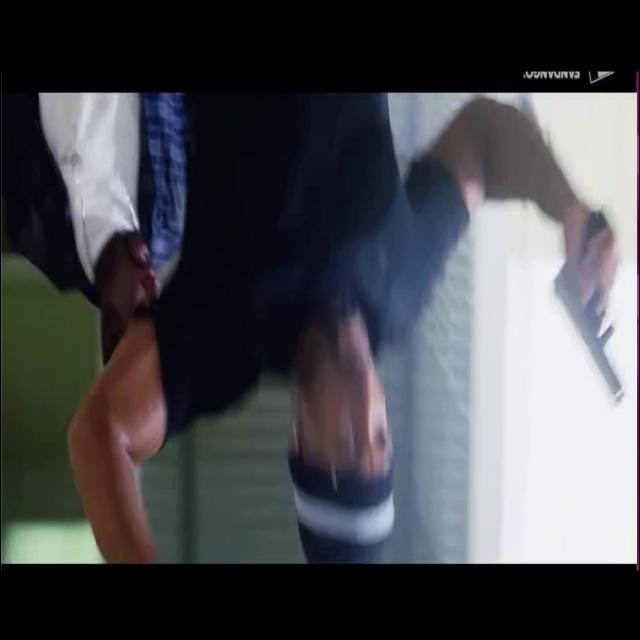weapons: (546, 190, 630, 420)
